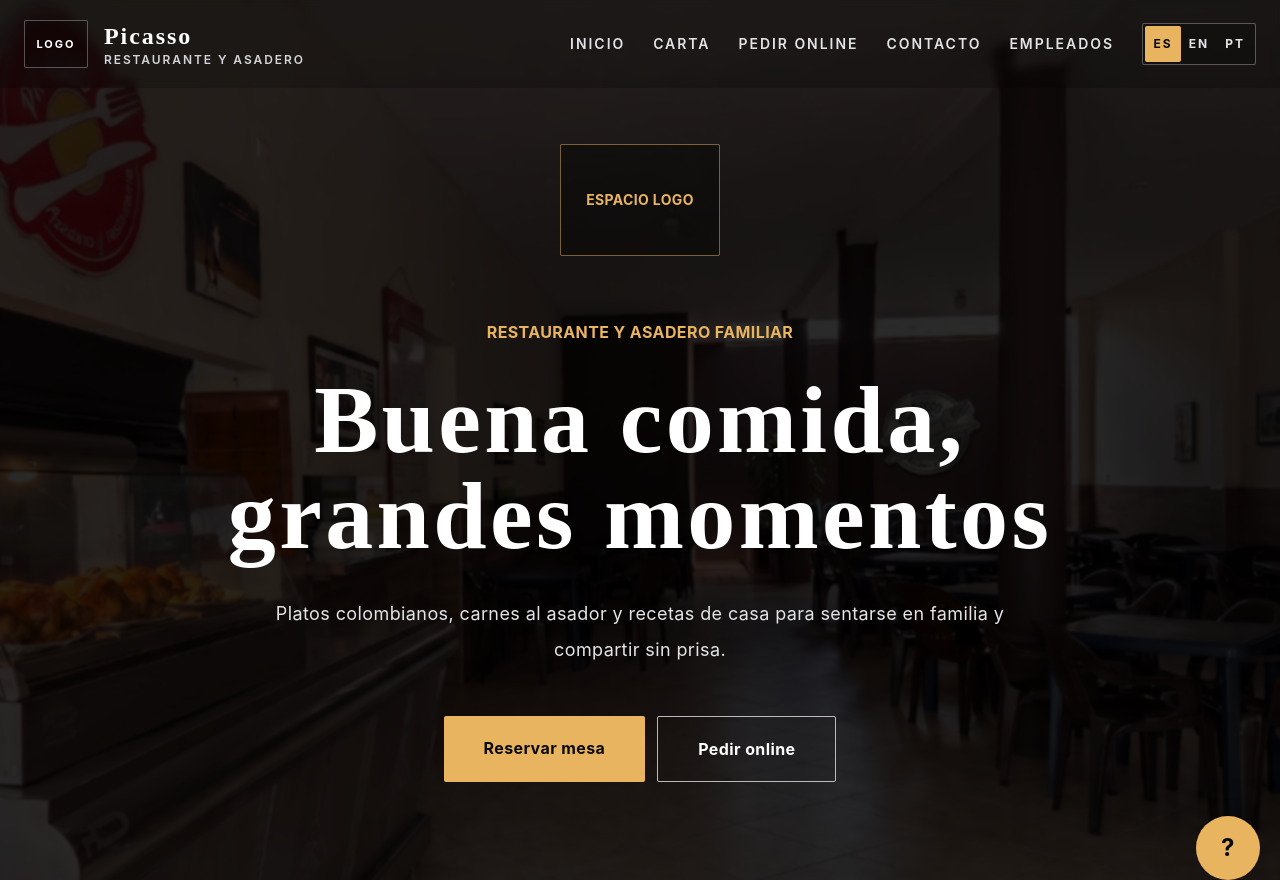
App › switches Spanish and English across the home and order pages
The image size is (1280, 880).
Expected: the heading "Buena comida, grandes momentos" is shown, [228,366,1052,569]
Step 1. Click the button with aria-label "English" → coordinates (1199, 44), box [1181,26,1217,62]
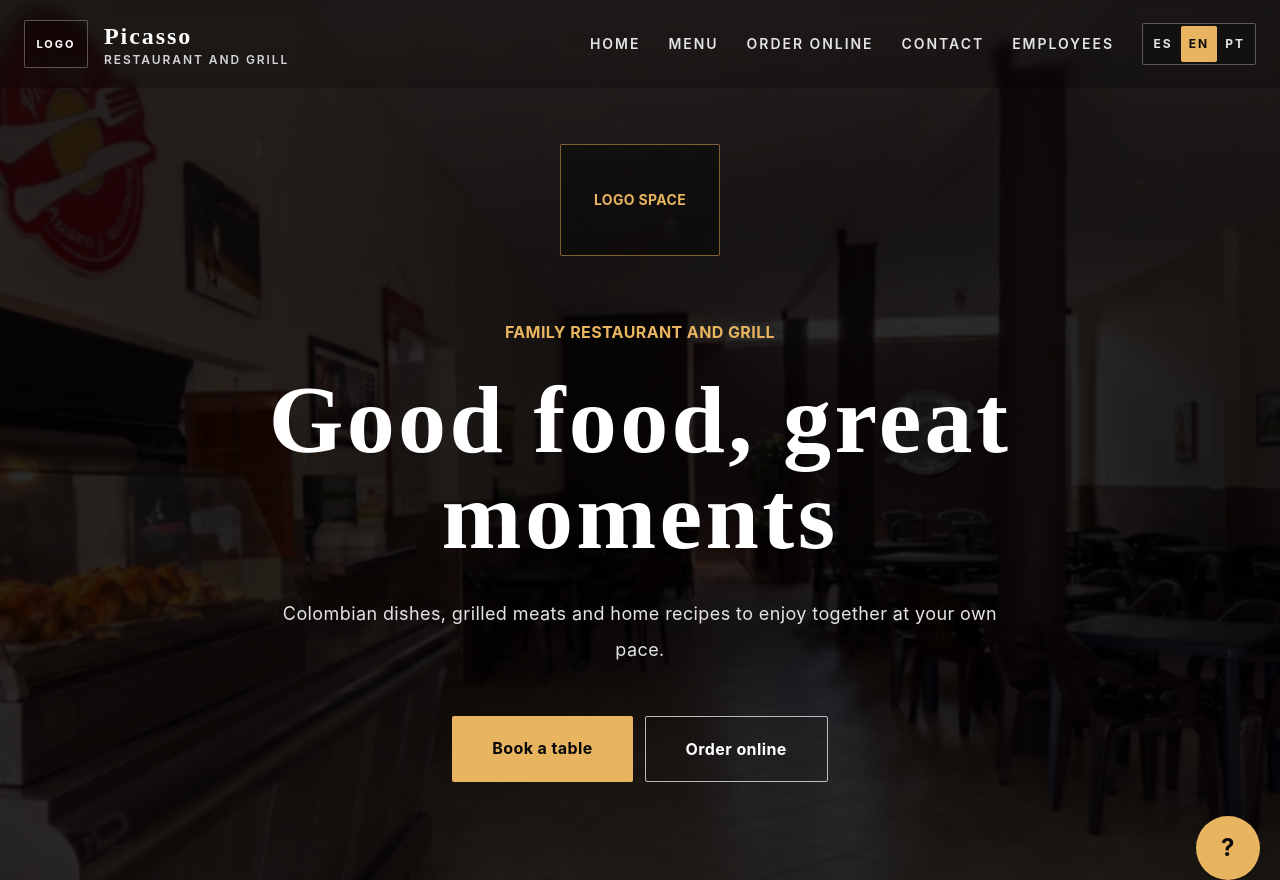
Expected: the heading "Good food, great moments" is shown, [269,366,1011,569]
Step 2. Click the link "MENU" → coordinates (694, 44), box [668,34,719,54]
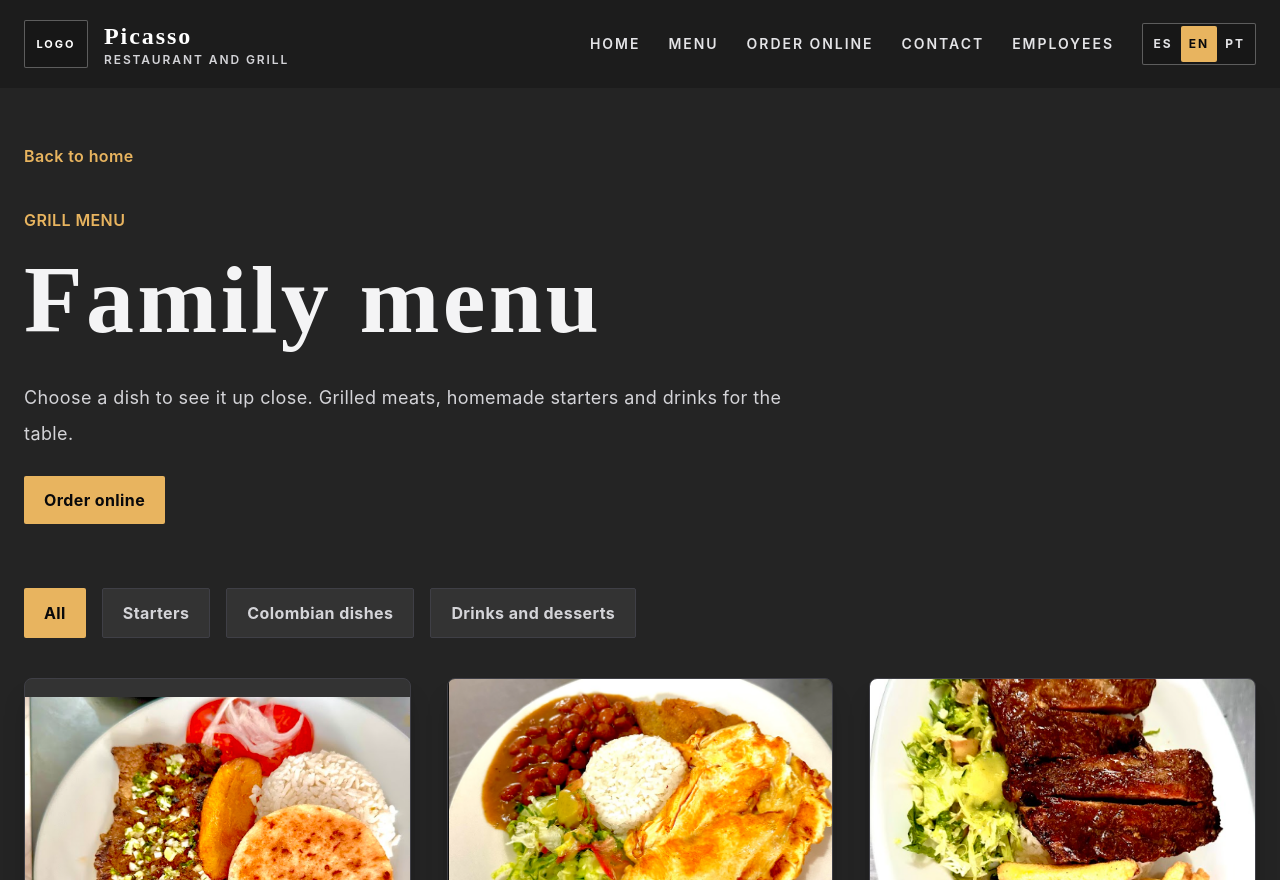
Expected: the heading "Family menu" is shown, [24,246,602,353]
Step 3. Click the link "ORDER ONLINE" → coordinates (810, 44), box [747,34,874,54]
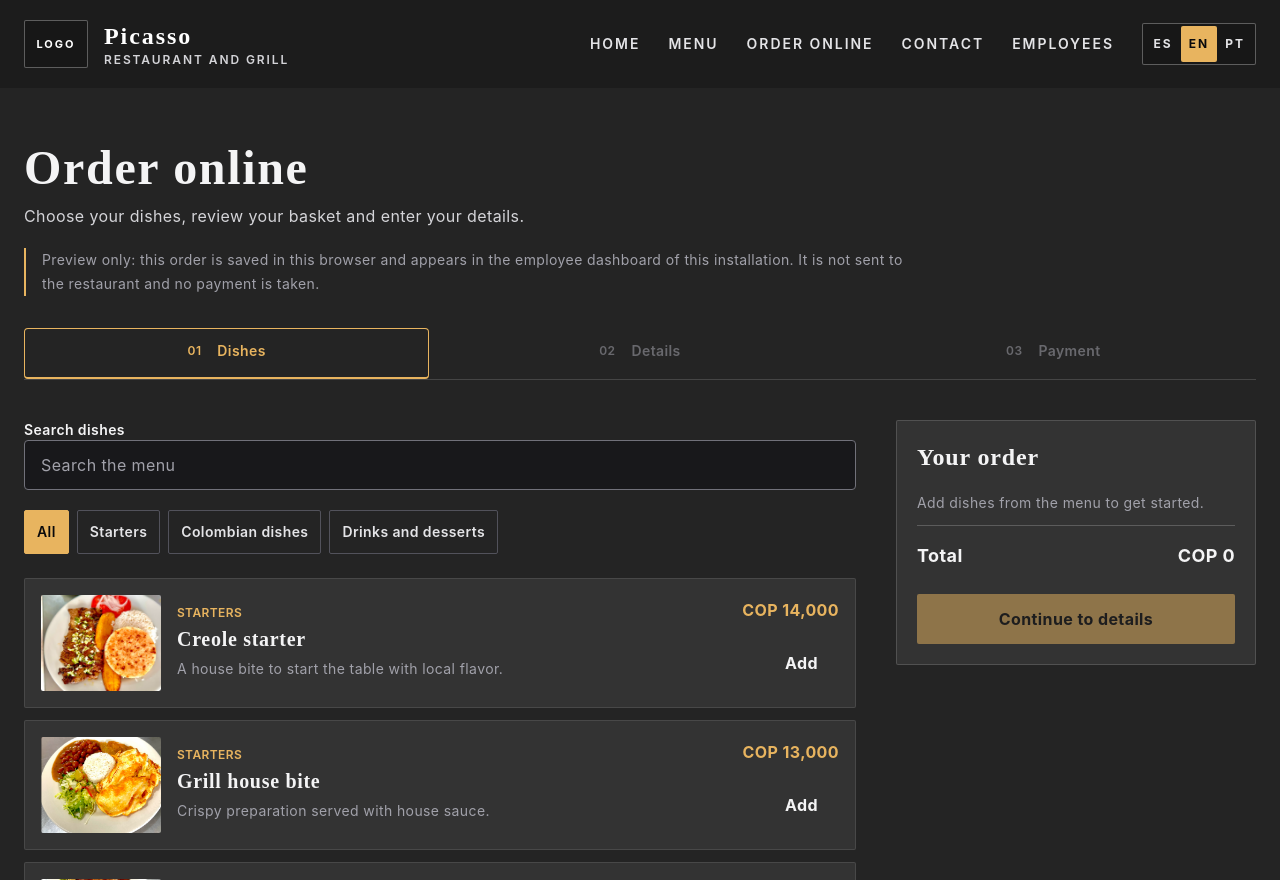
Expected: the heading "Order online" is shown, [24,141,309,194]
Expected: the search field labelled "Search dishes" is shown, [24,440,856,490]
Step 4. Click the button with aria-label "Español" → coordinates (1163, 44), box [1145,26,1181,62]
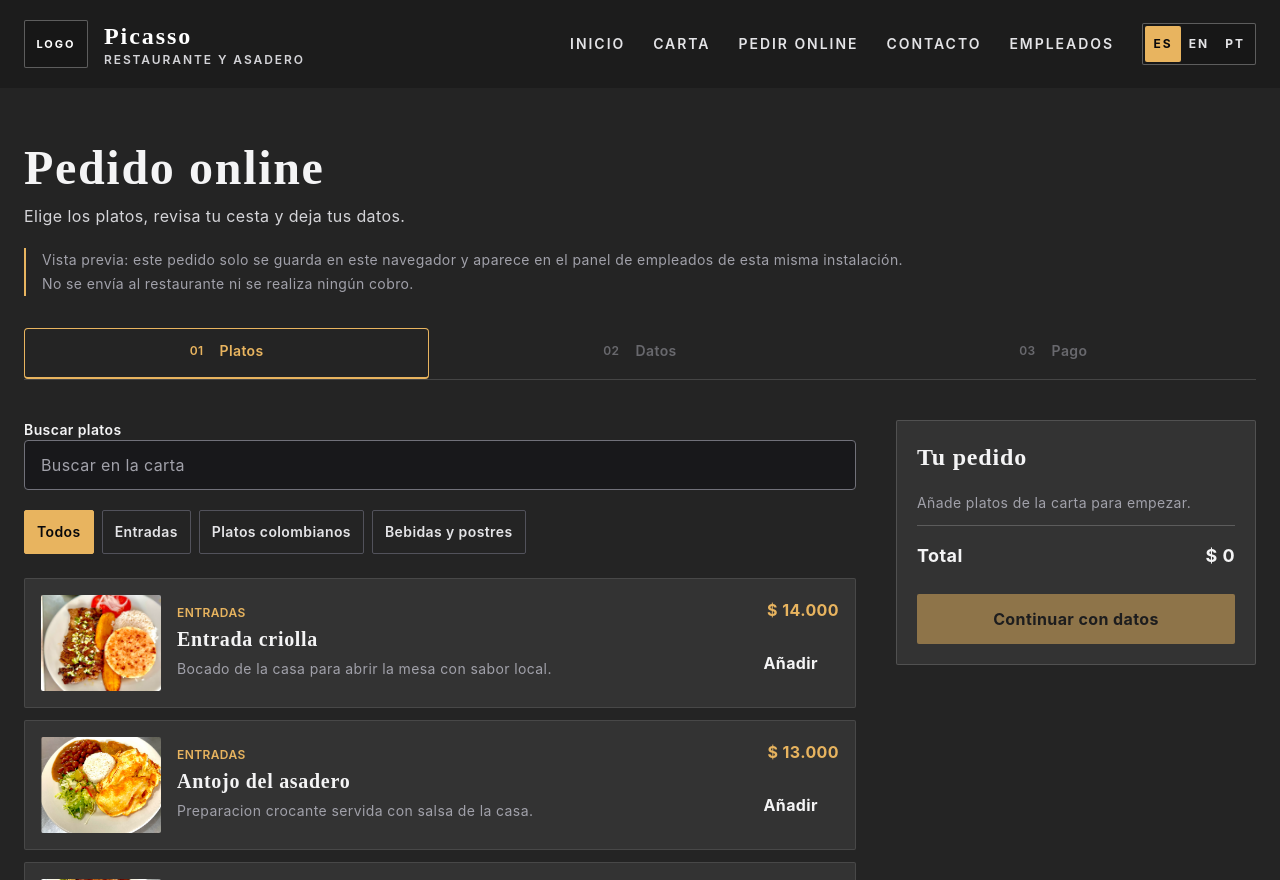
Expected: the heading "Pedido online" is shown, [24,141,325,194]
